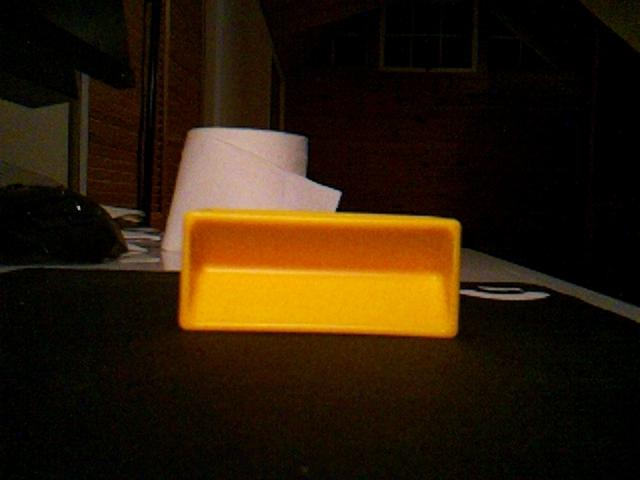yellow: (177, 207, 463, 340)
